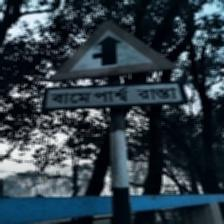Side-road-left: (46, 19, 182, 114)
